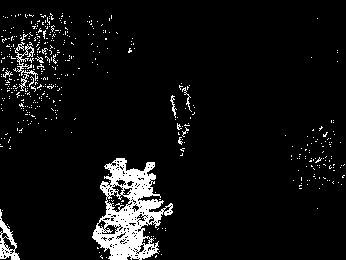person: (169, 80, 195, 155)
